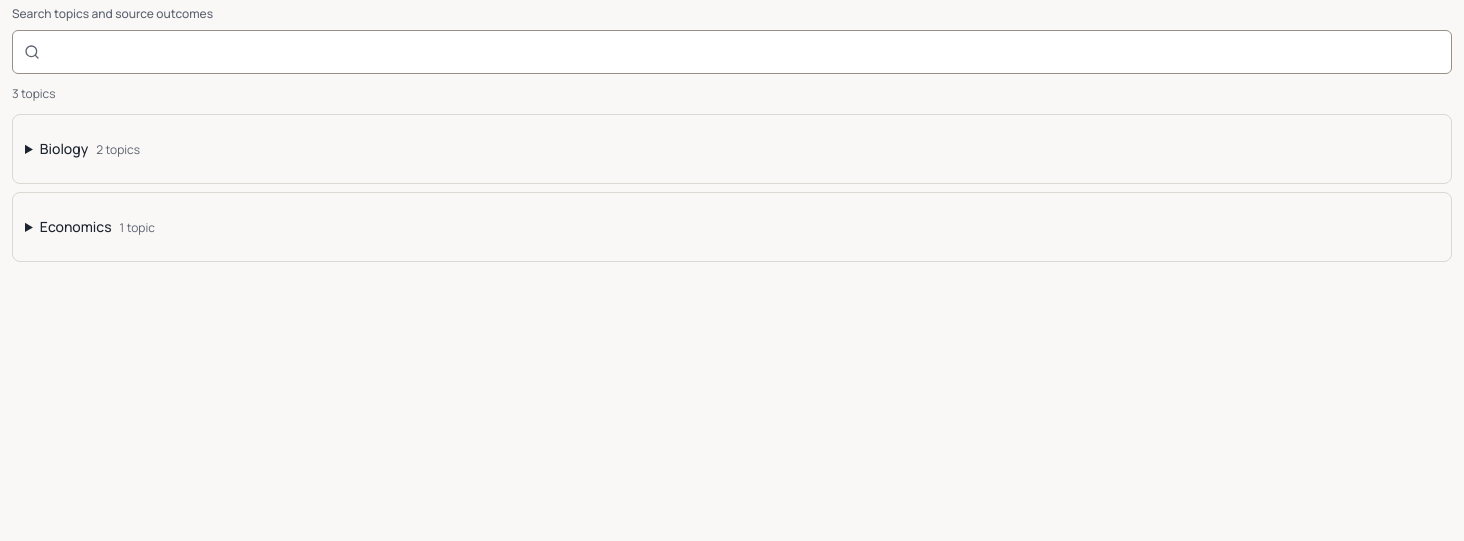
ProfileTopicList › groups exact leaf labels in source order and exposes physical PDF pages and literal outcomes
The width and height of the screenshot is (1464, 541).
Expected: the text "Cell membranes" is not shown
What coordinates should you click on to do the following:
click the heading "Biology2 topics"
I would click on:
 (90, 148)
Its box is [40, 139, 140, 158].
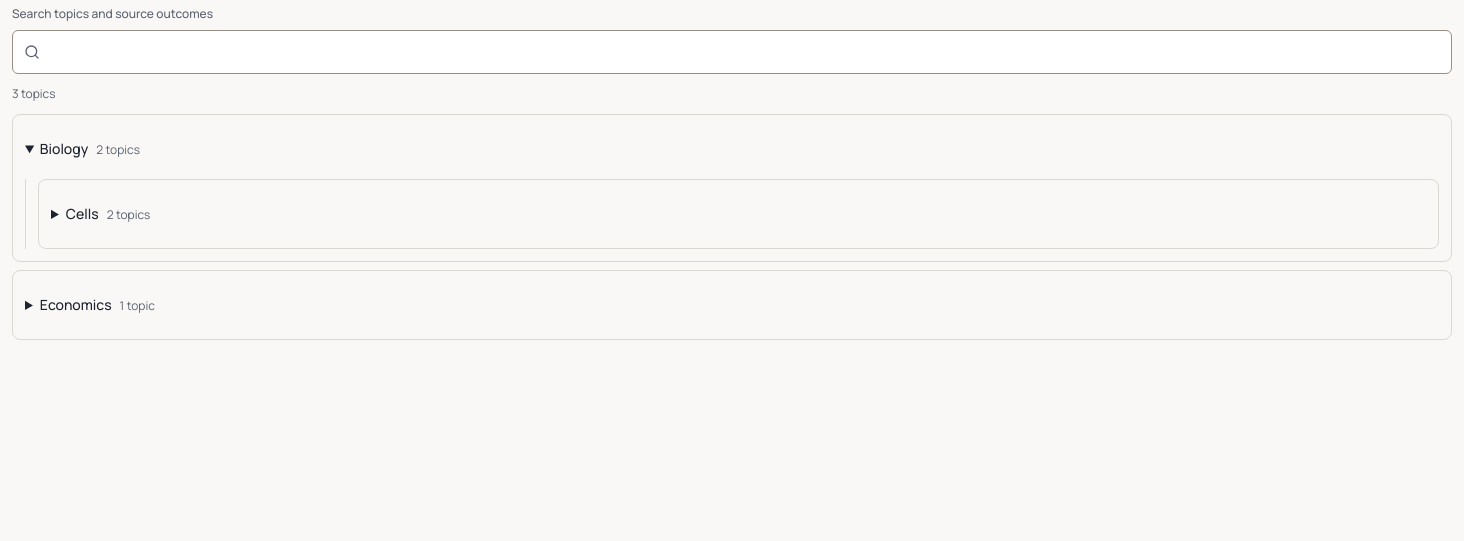
What coordinates should you click on to do the following:
click the heading "Cells2 topics"
I would click on:
 (108, 214)
Its box is [66, 204, 150, 223].
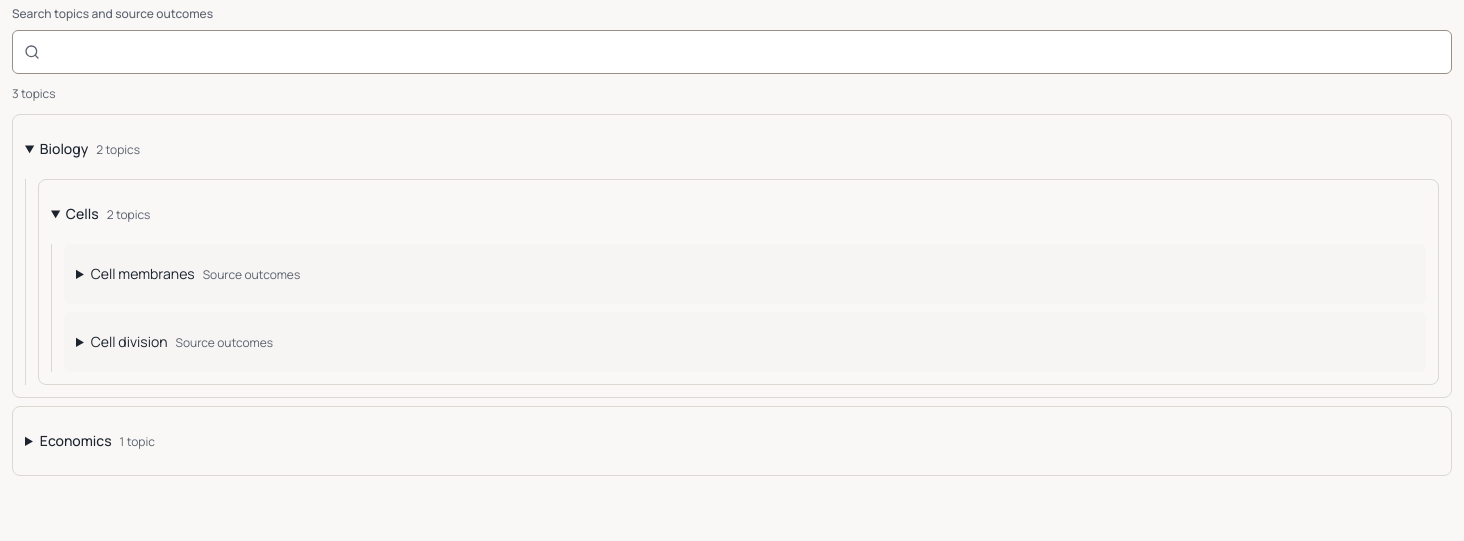
What coordinates should you click on to do the following:
click the heading "Cell membranes"
I would click on:
 (196, 274)
Its box is [91, 264, 300, 283].
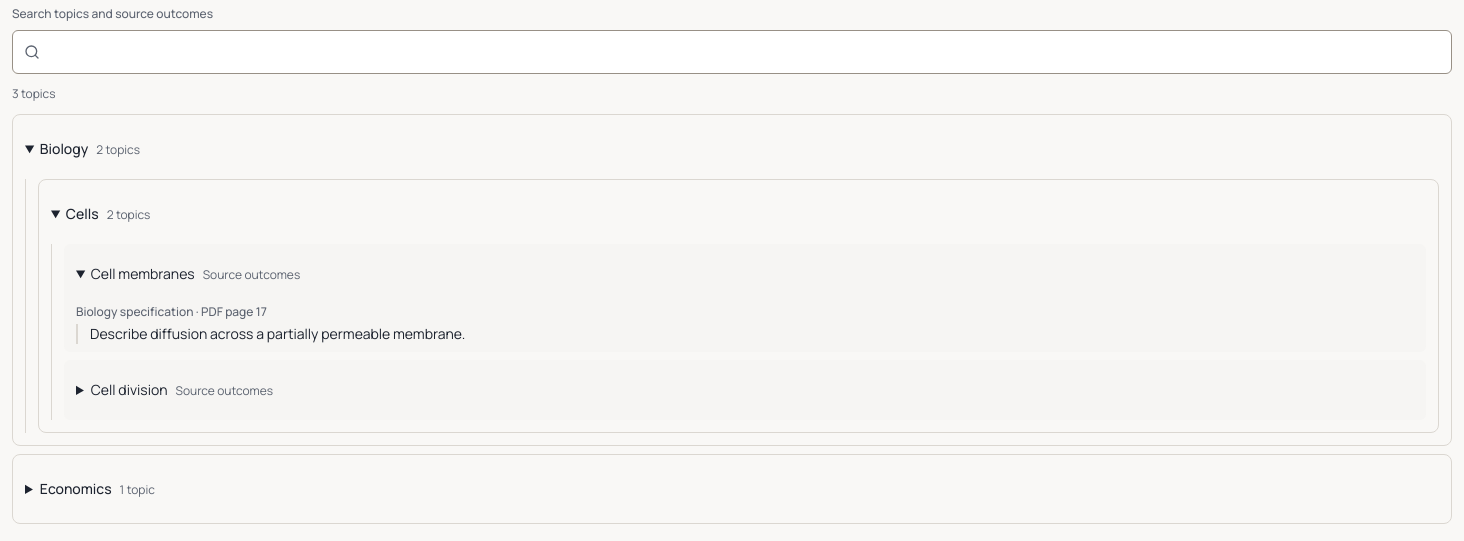
Expected: the text "Biology specification · PDF page 17" is shown, [76, 303, 267, 320]
Expected: the text "Describe diffusion across a partially permeable membrane." is shown, [76, 324, 1414, 344]
What coordinates should you click on to do the following:
click the heading "Cells2 topics"
I would click on:
 (108, 214)
Its box is [66, 204, 150, 223].
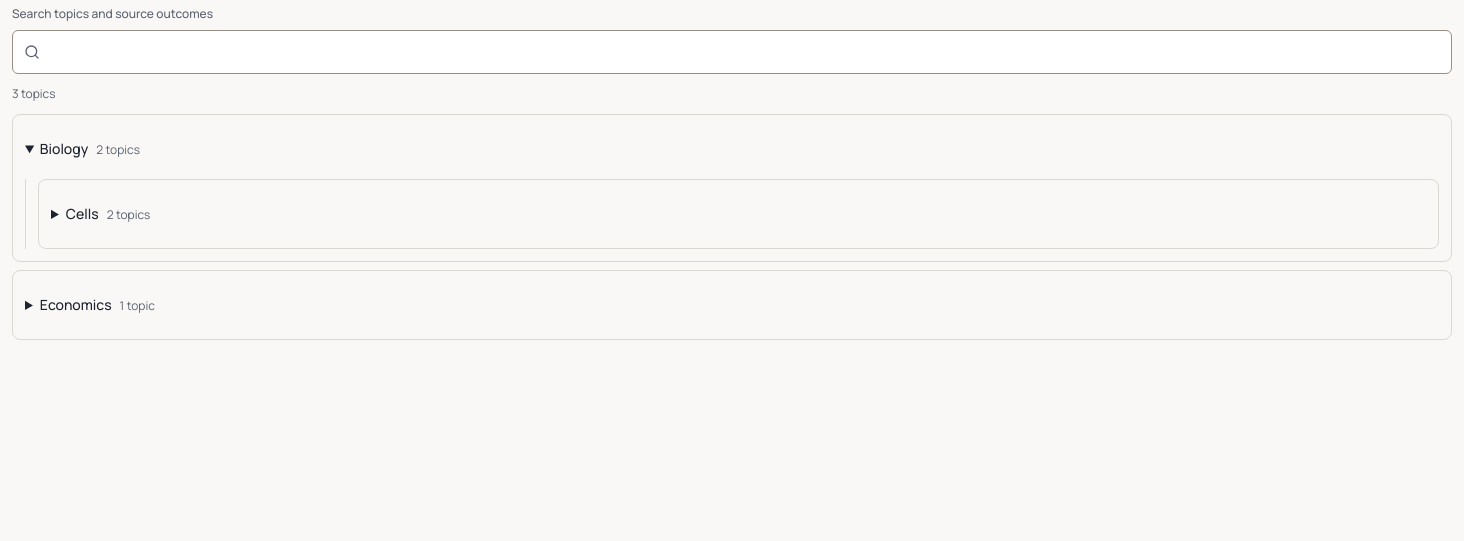
Expected: the heading "Cell membranes" is gone
